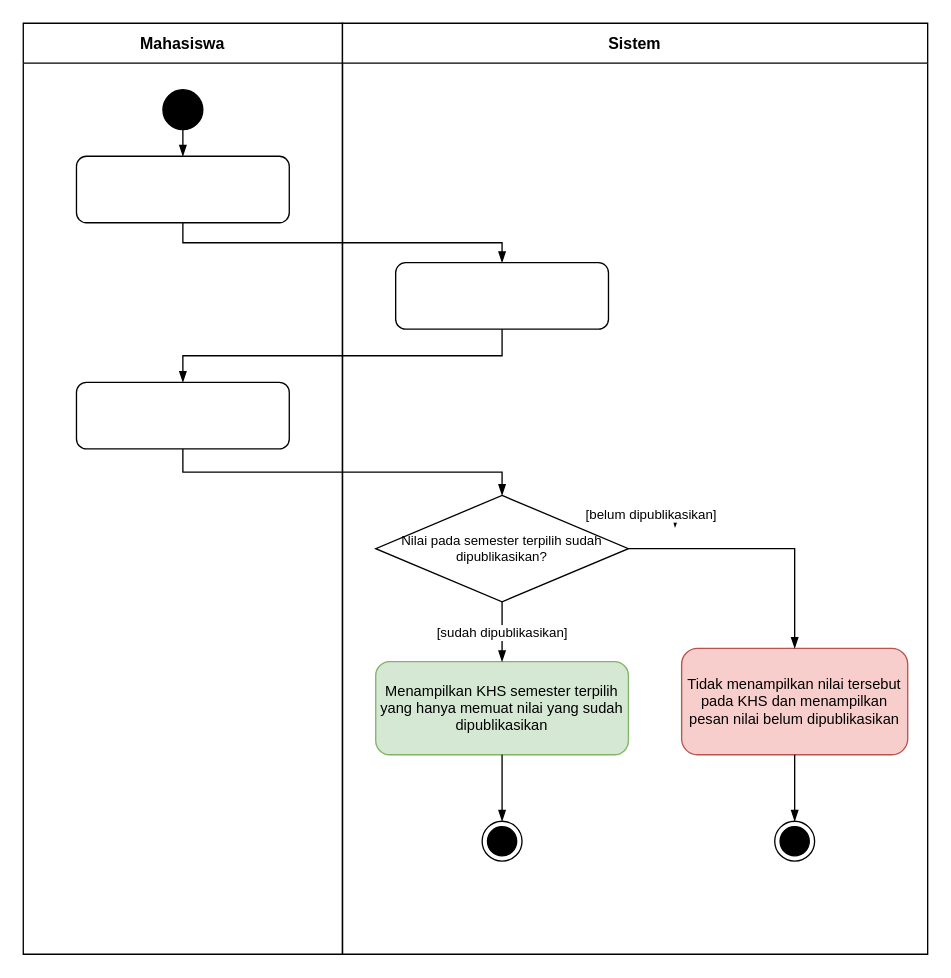
Image size: 951x978. Some labels were removed from this diagram. The centre of each missing label's shape, as x and y in pixels:
"Memilih menu KHS" goes at pixel 182 189.
"Memilih semester" goes at pixel 182 415.
"Menampilkan pilihan semester" goes at pixel 501 295.
